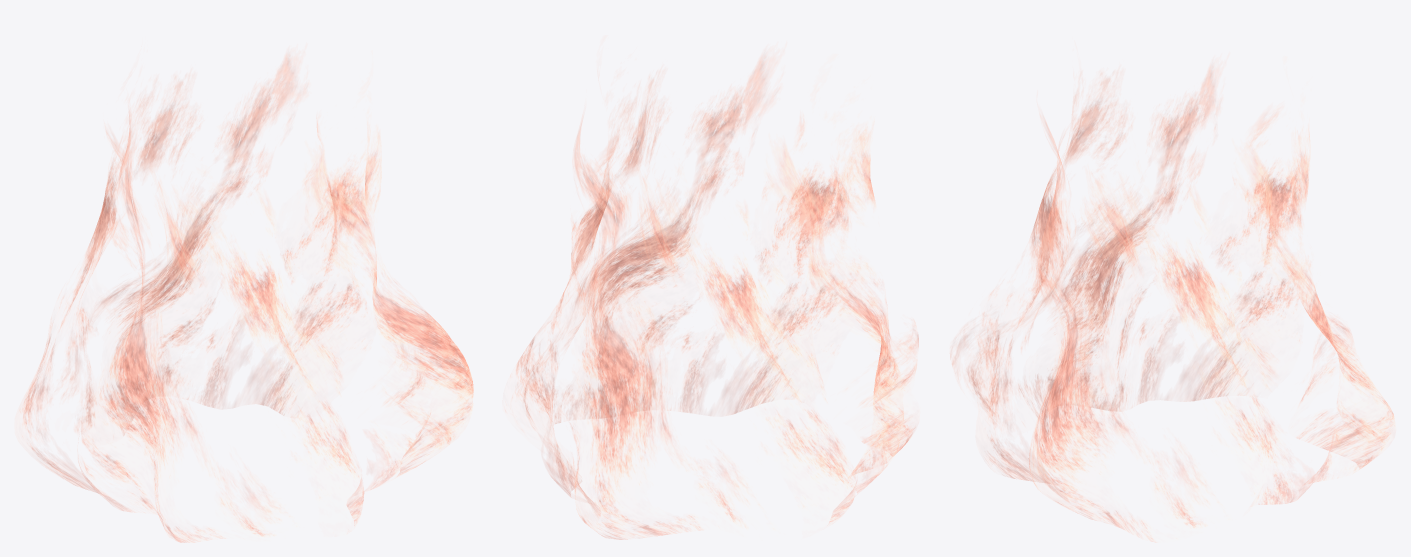
Rendered from devil_skirt_b.glb.
The picture shows the model from 3 angles, left to right: view 1: azimuth 30°, elevation 25°; view 2: azimuth 150°, elevation 25°; view 3: azimuth 270°, elevation 25°; orthographic projection. The views are drawn at different scales.
Parts seen in each view (by area): view 1: devil_skirt_b; view 2: devil_skirt_b; view 3: devil_skirt_b.
Boxes of the visible parts, x1,y1,x2,y2 form: devil_skirt_b: (19, 53, 473, 542); devil_skirt_b: (505, 55, 918, 539); devil_skirt_b: (950, 65, 1394, 542).
Size of the model in its own units: 11.44 by 12 by 12.5.
1 material, 1 textured.
